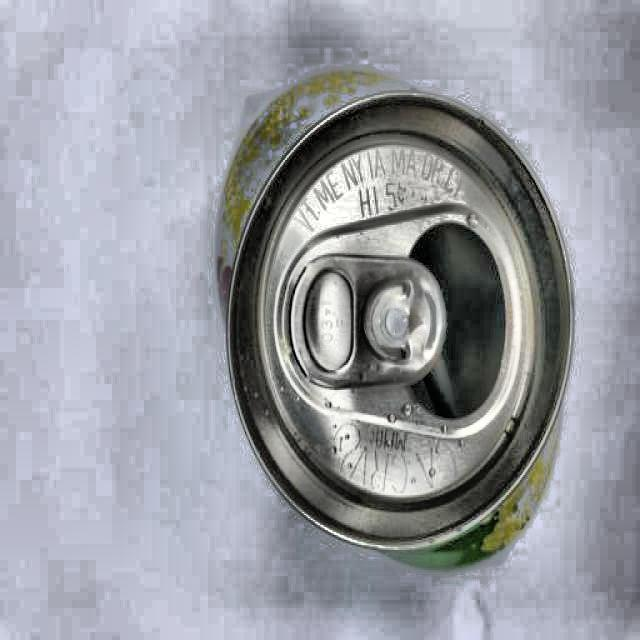metal: (215, 71, 575, 575)
